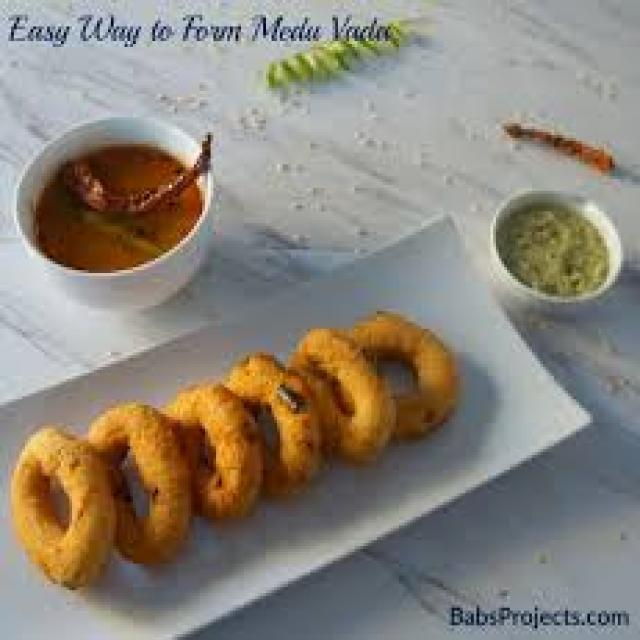MEDU VADA: (89, 402, 188, 561), (11, 429, 114, 581), (291, 329, 393, 458), (224, 352, 319, 490), (352, 314, 454, 434), (166, 382, 260, 511)
